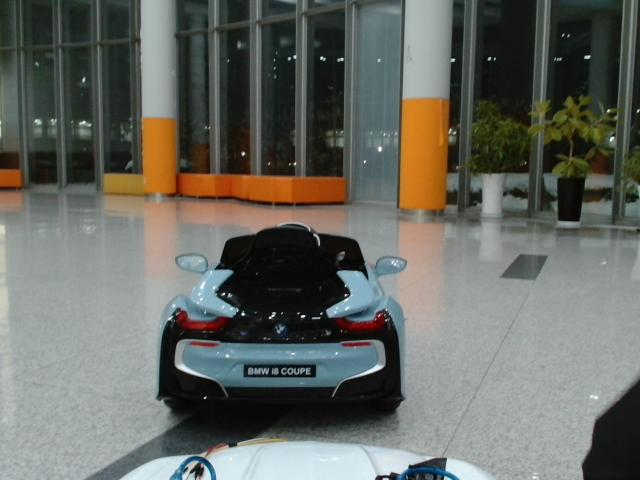car: (155, 222, 408, 418)
